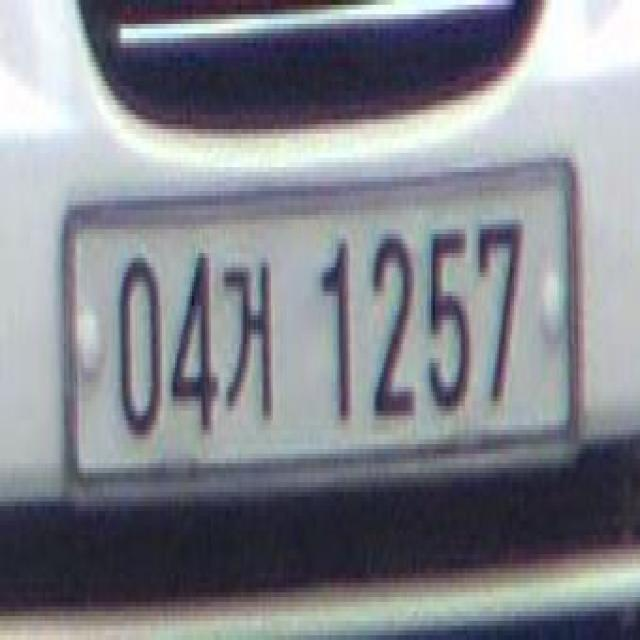illegal_plate: (64, 156, 582, 510)
